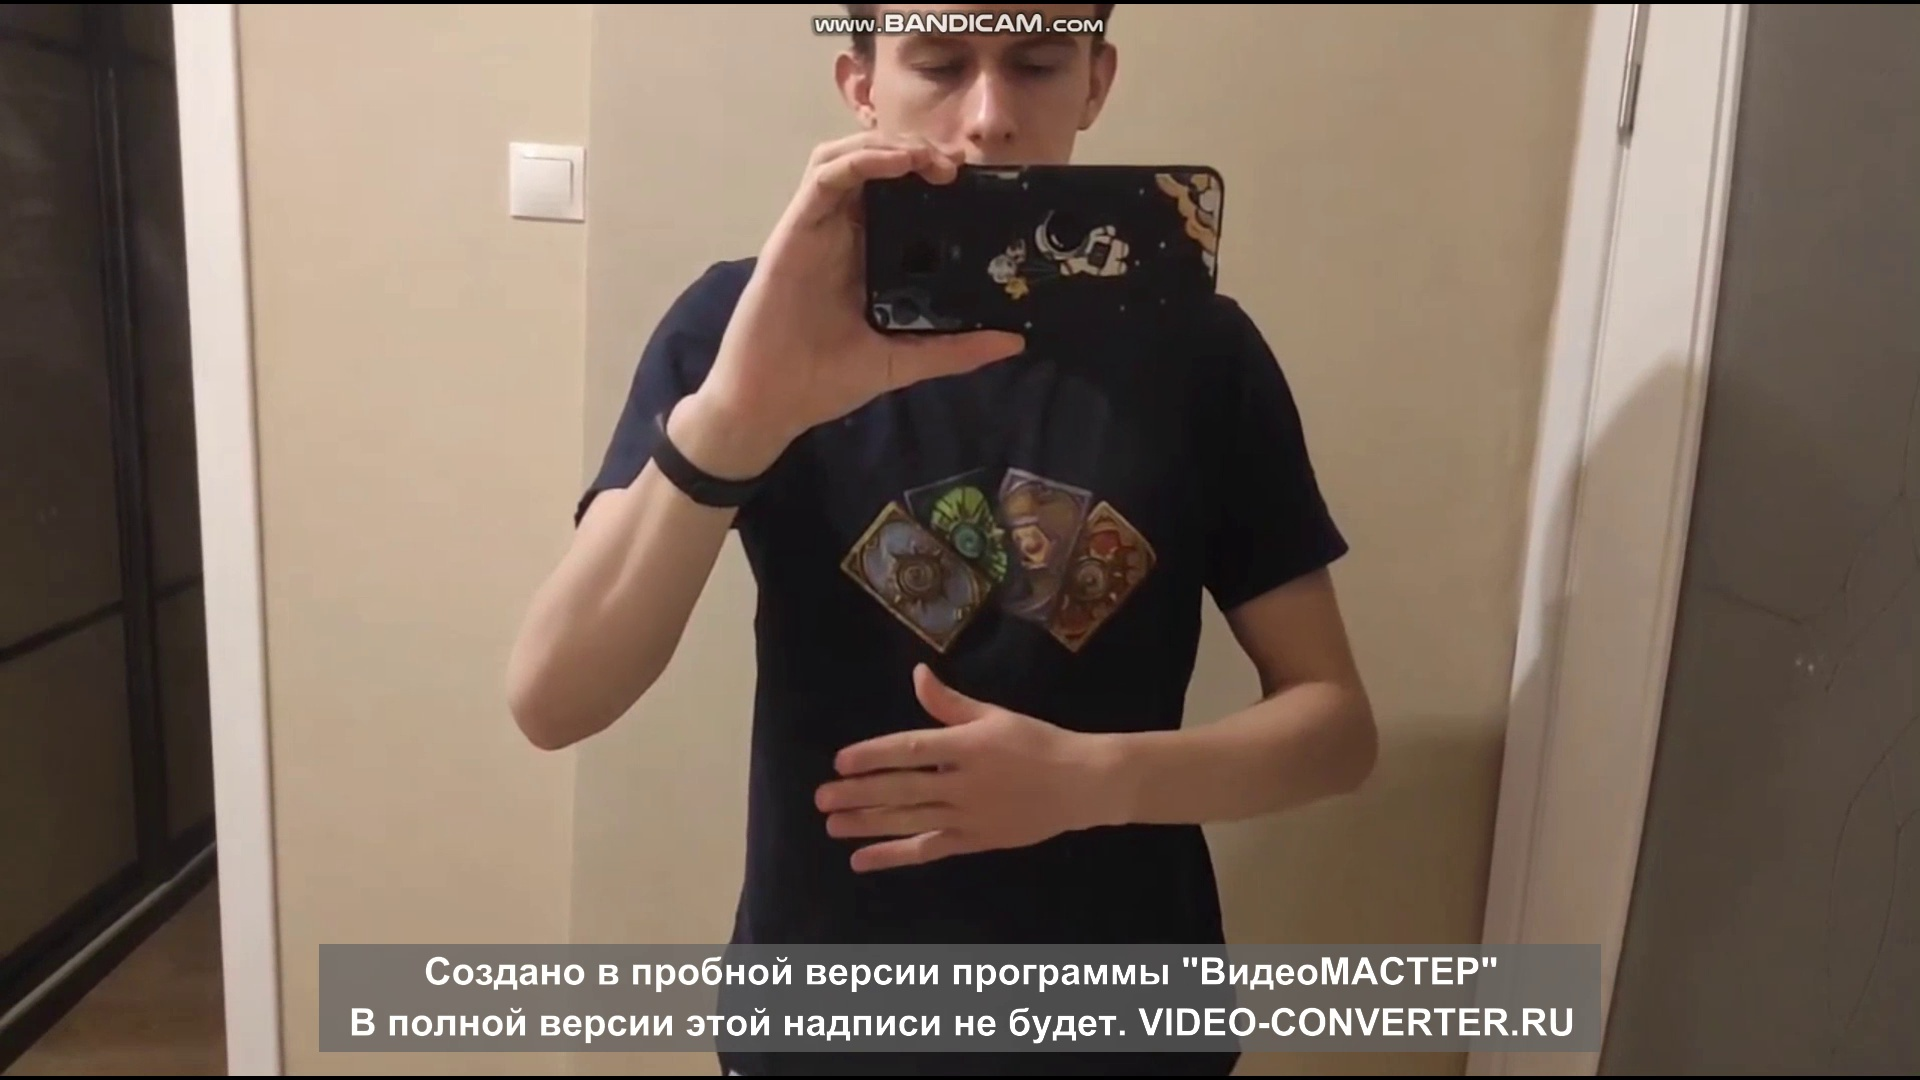Кисть: (812, 659, 1067, 874)
